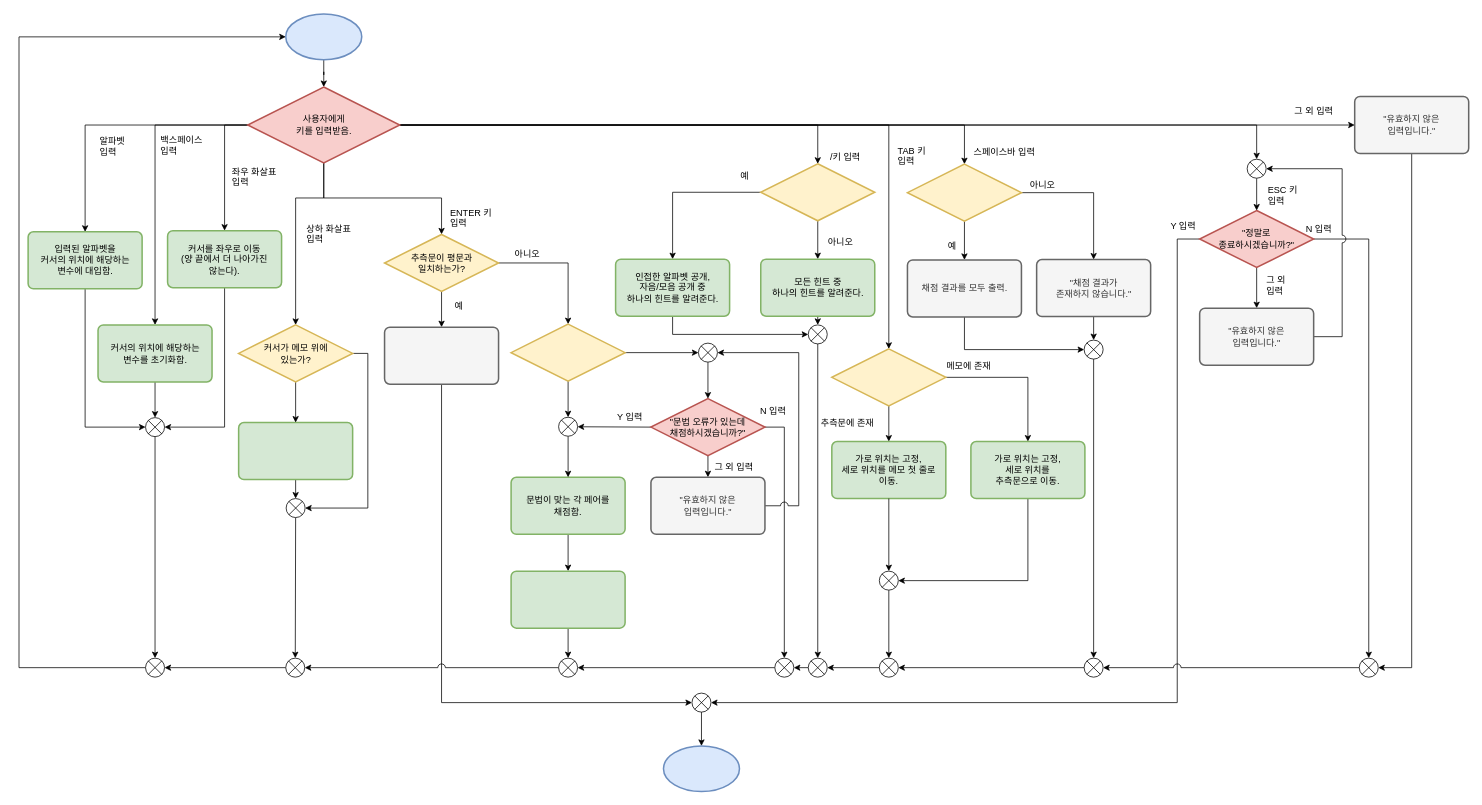
Image size: 1482x805. Some labels were removed from this diagram. Each missing label, with the centre of its shape:
"축하합니다! 암호문 해독에 성공하였습니다!": [441,355]
게임 화면: [323,36]
채점 결과가 존재하는가?: [964,192]
채점 히스토리를 저장함.: [567,599]
초기 화면으로 되돌아감.: [701,768]
추측문이 게임 문법을 만족하는가?: [567,352]
커서가 어디에 존재하는가?: [888,377]
커서를 상하로 이동 (양 끝에서 더 나아가진 않는다.): [295,450]
평문에 알파벳이 한 종류만 있는가?: [817,192]
